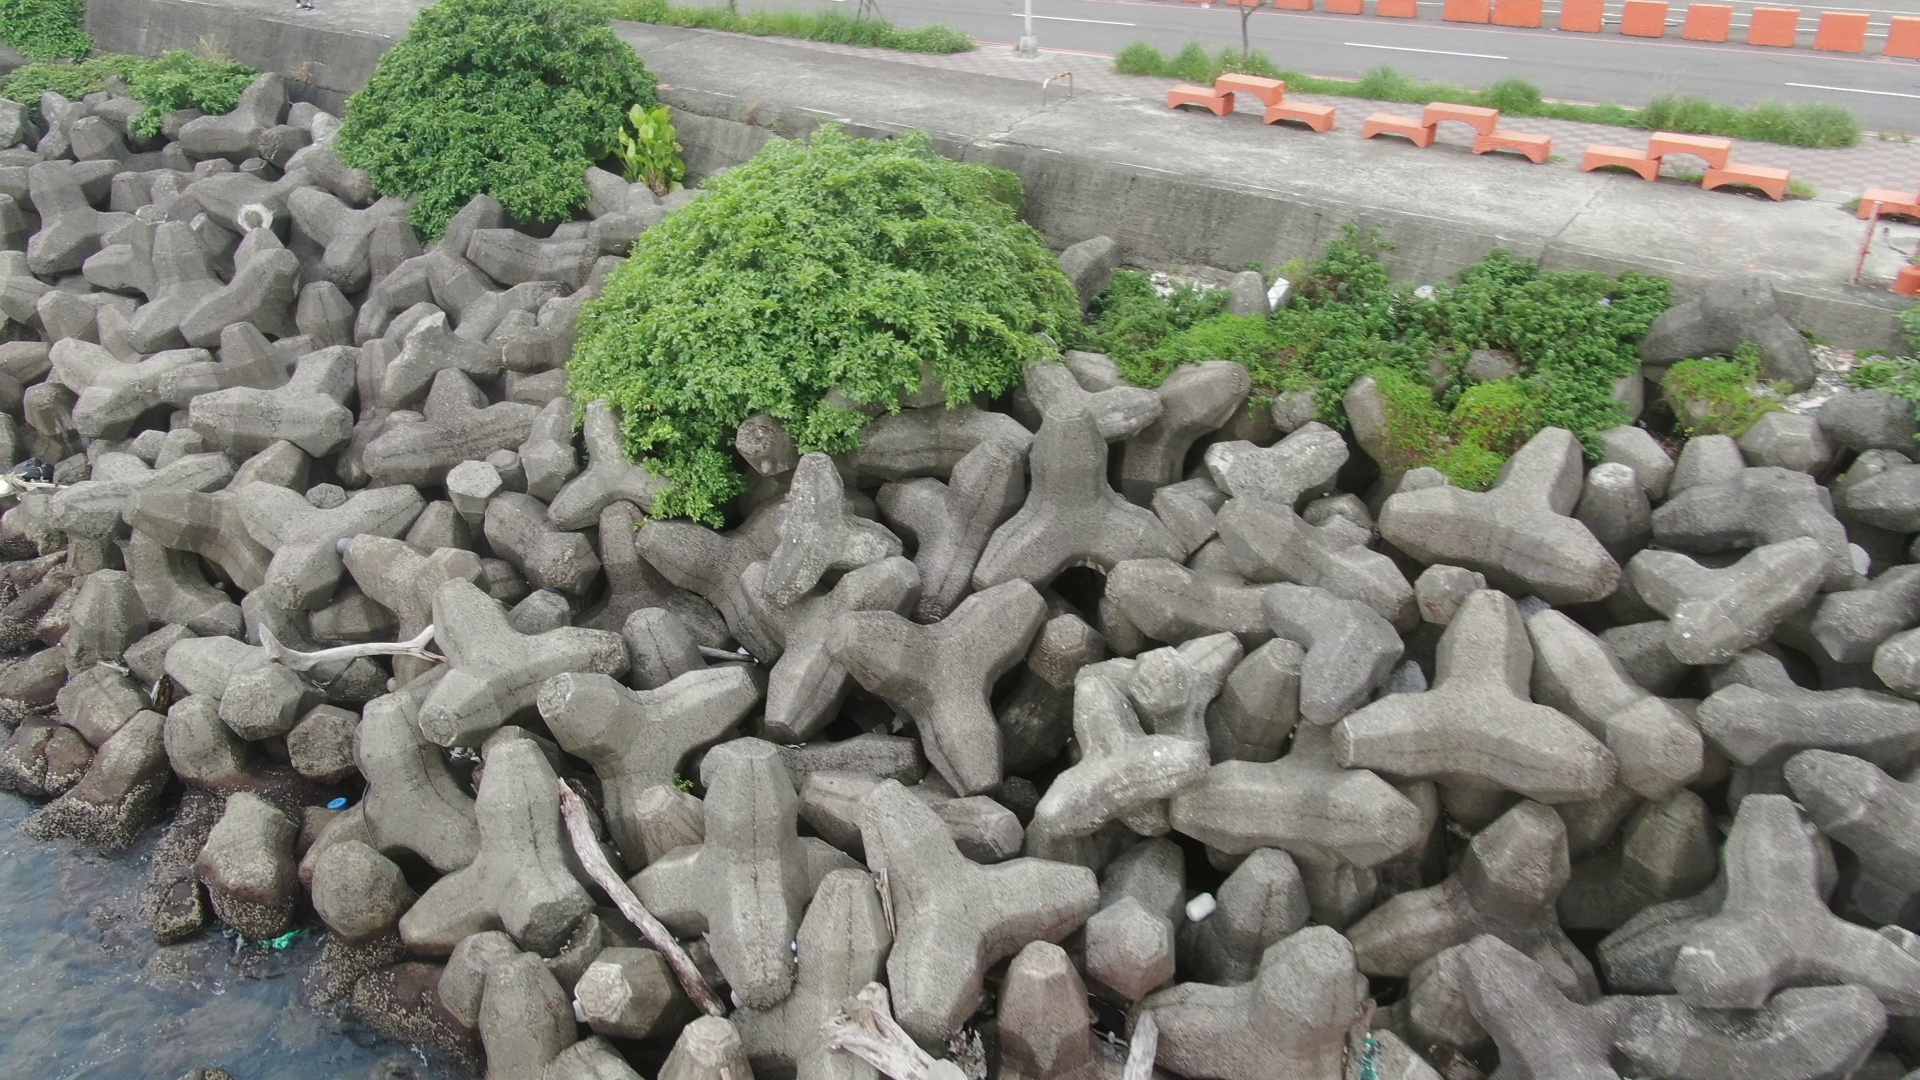garbage: (247, 916, 309, 957), (1262, 277, 1303, 313), (1182, 887, 1222, 922), (324, 793, 357, 815)
